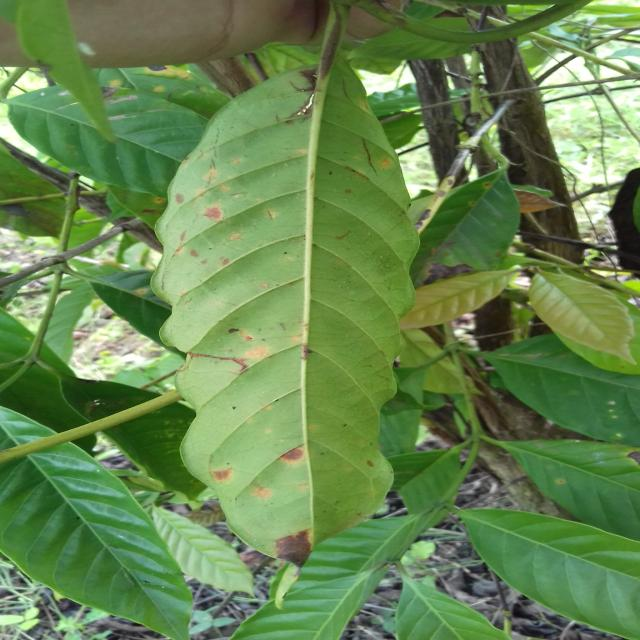Enfermedad-Roya: (153, 58, 428, 567)
